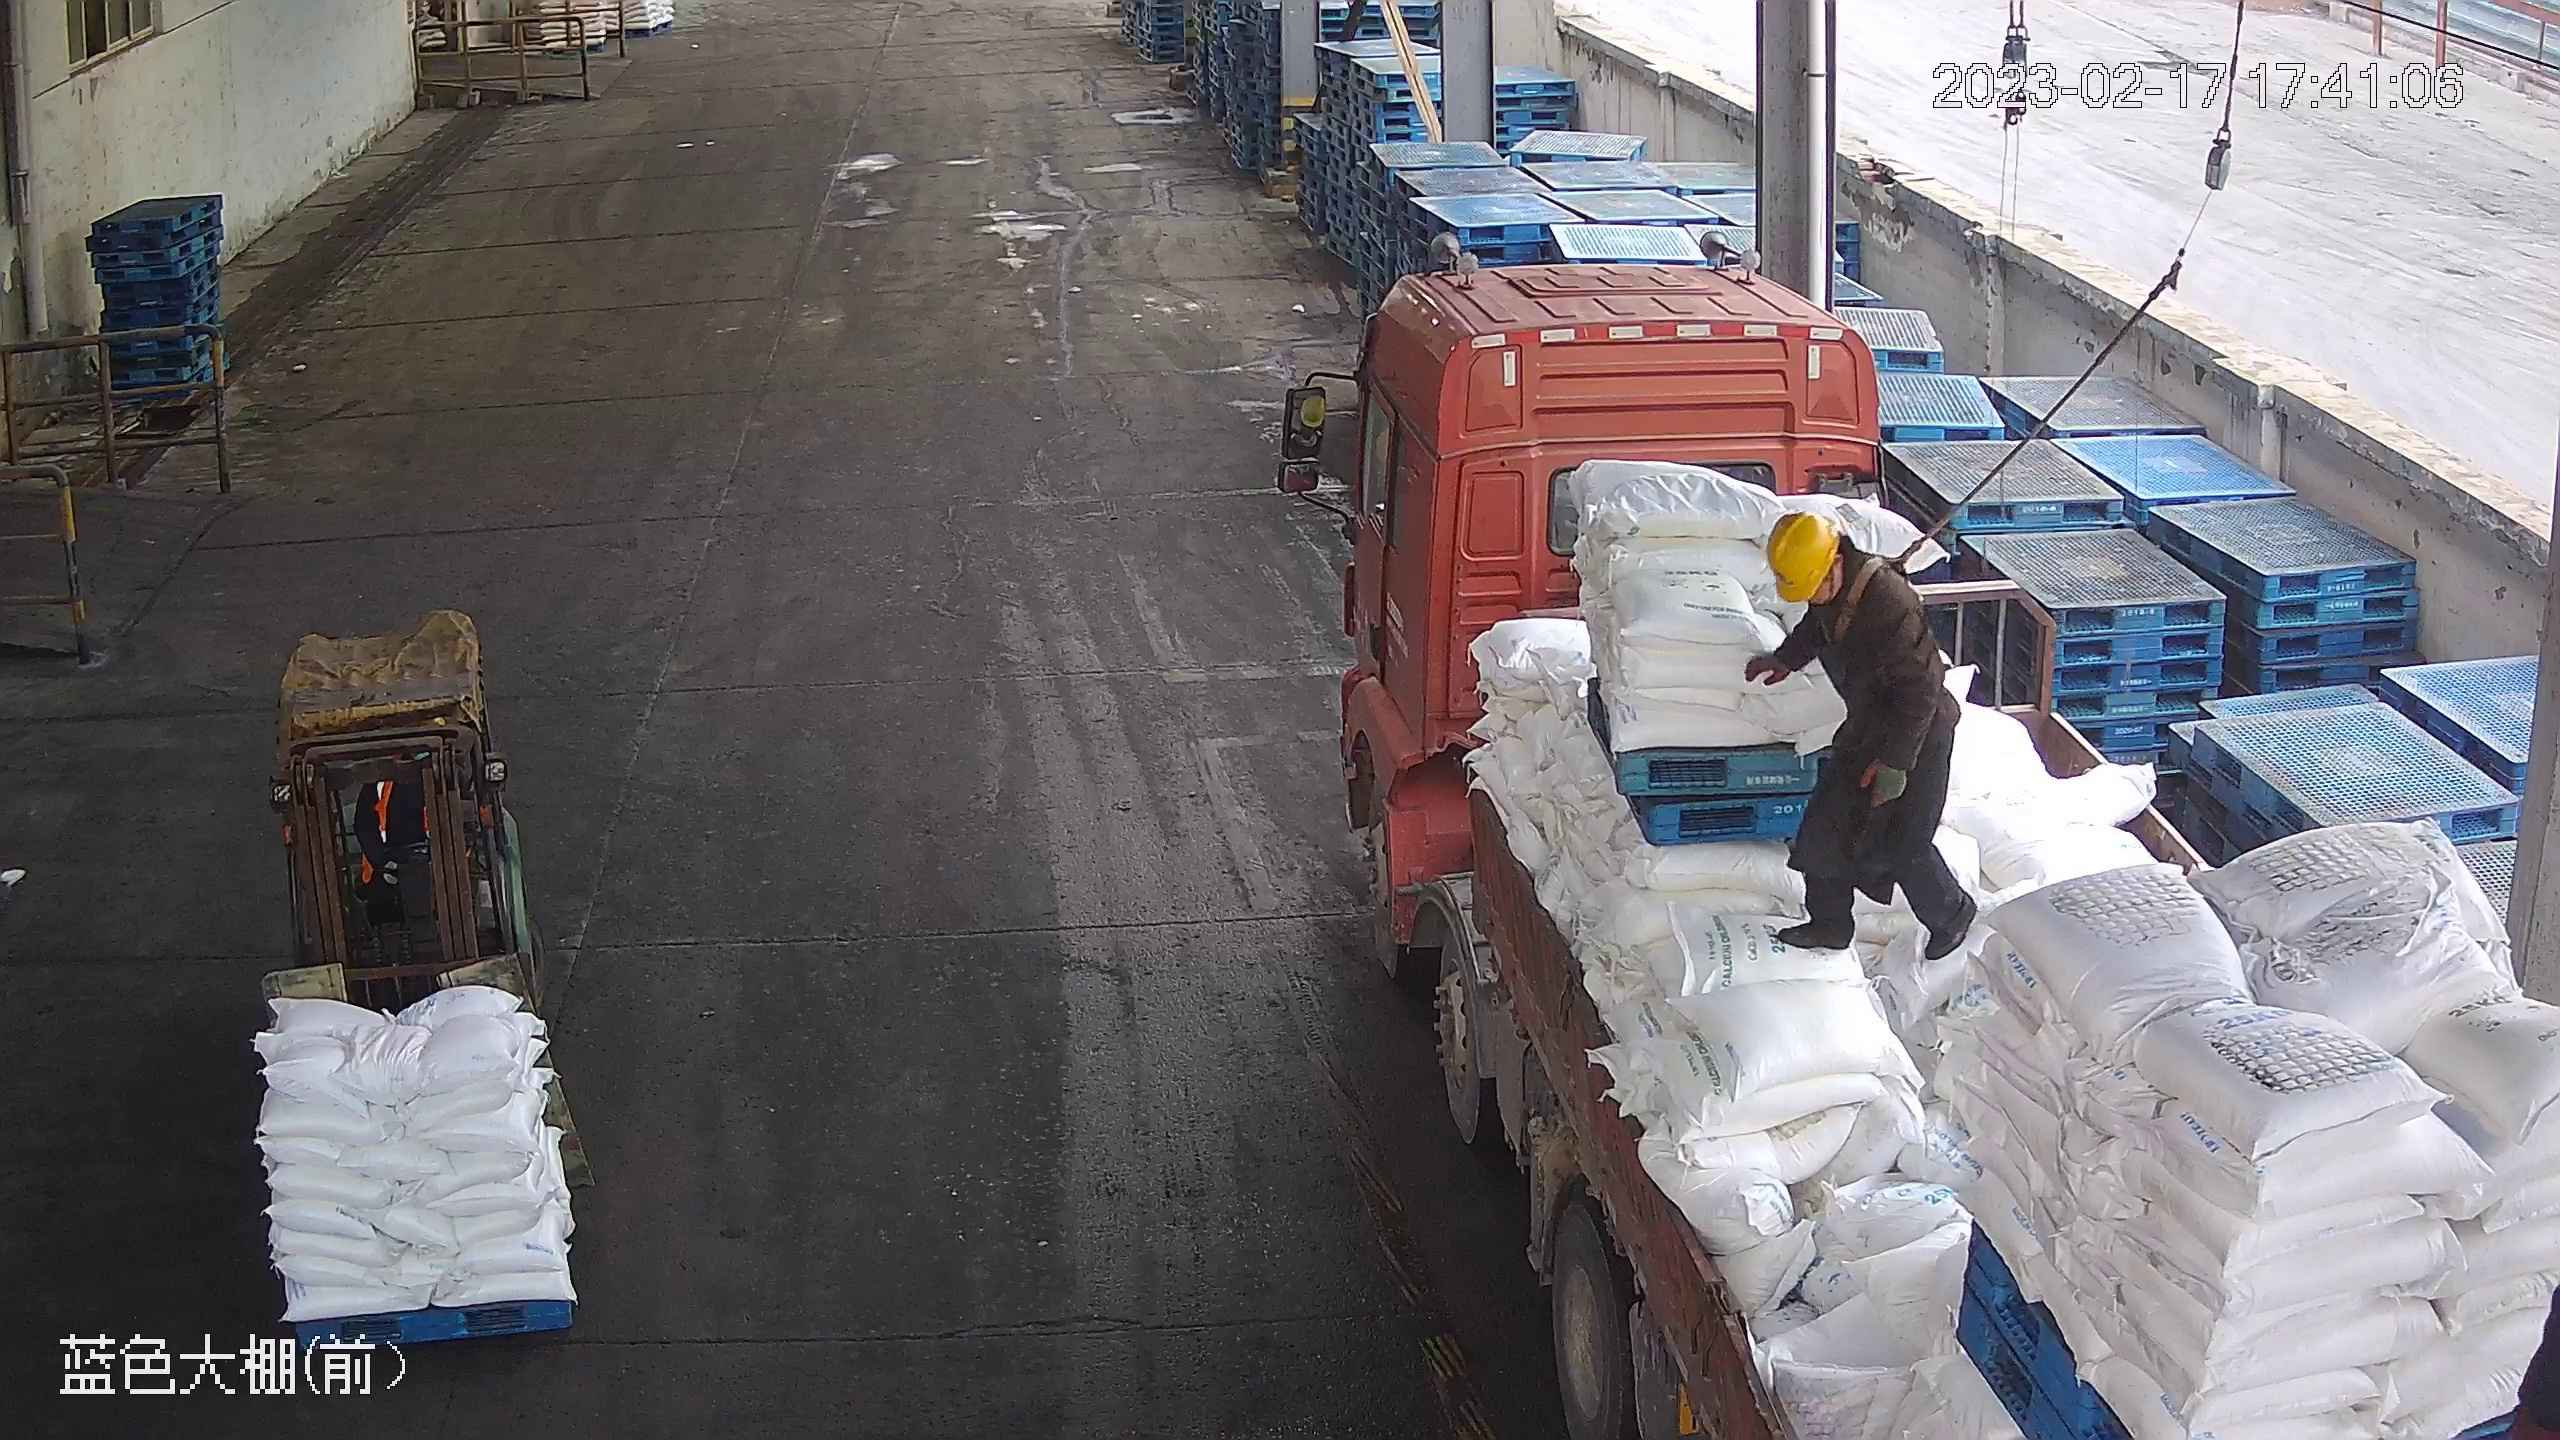belt: (1824, 531, 1934, 645)
head: (1758, 510, 1920, 652)
helmet: (1766, 508, 1840, 599)
people: (1269, 261, 2545, 1416), (1738, 510, 1980, 966)
truck: (1265, 262, 2560, 1437)
